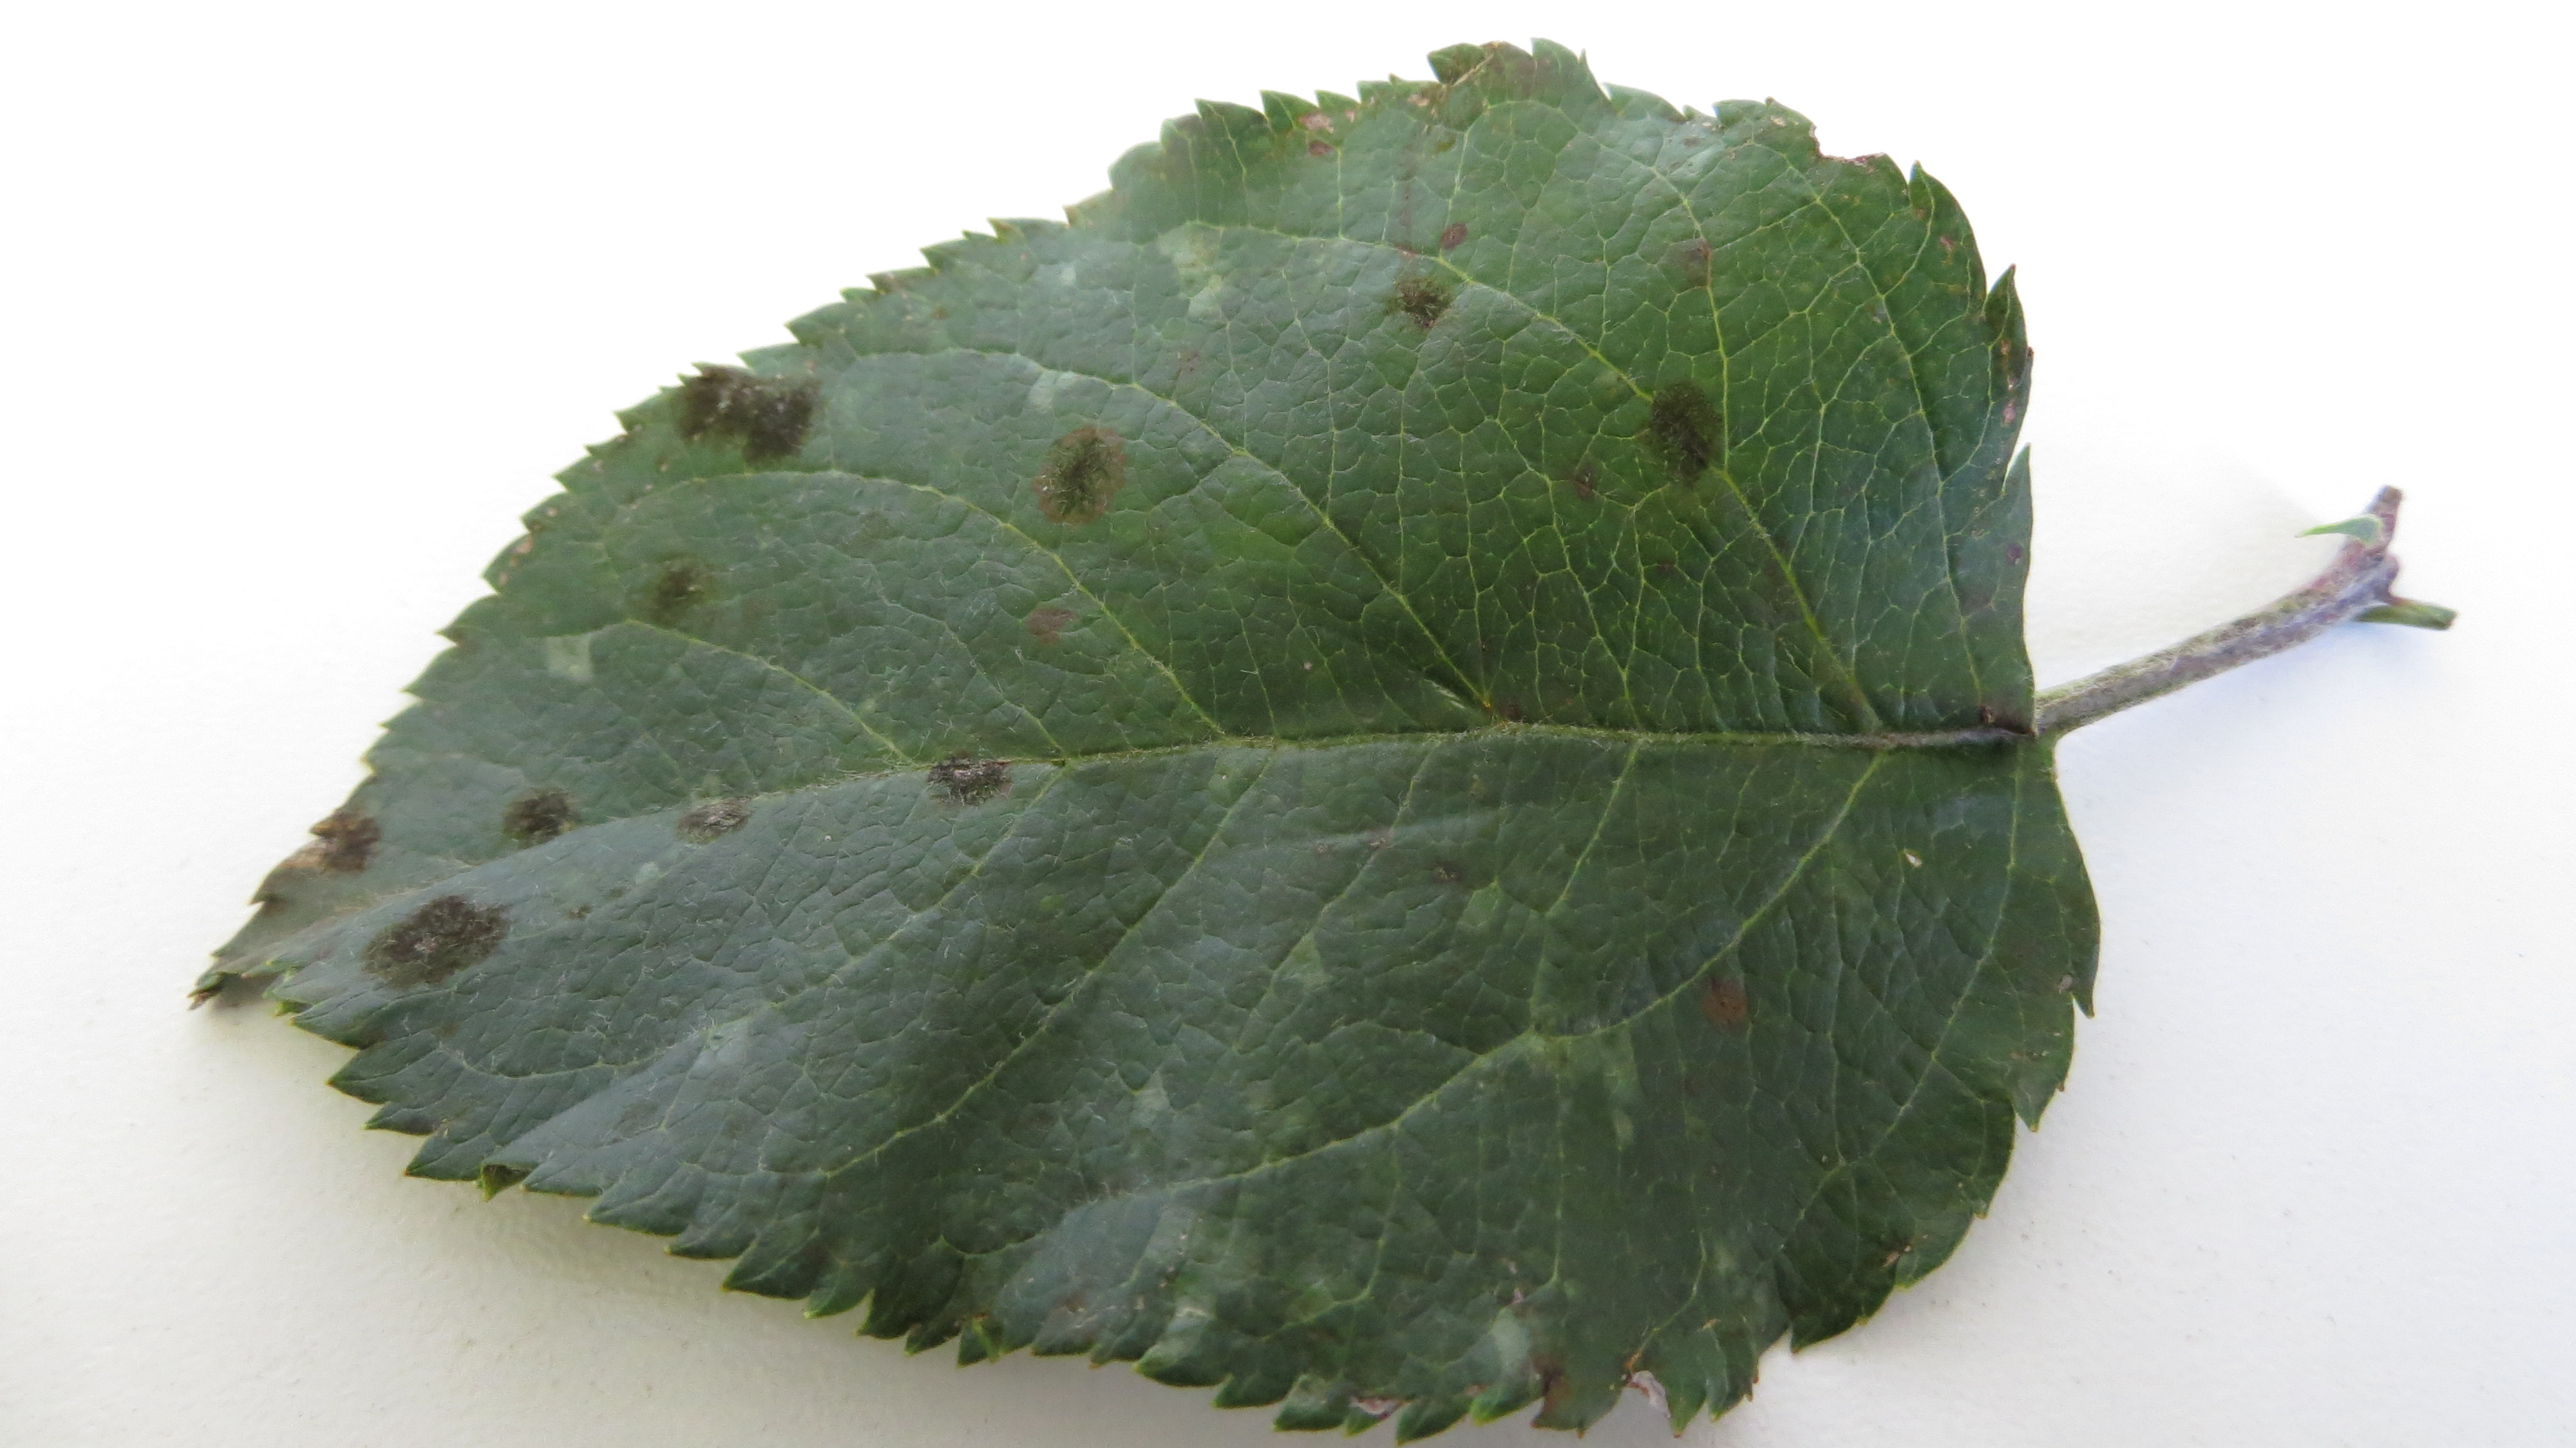sarna: (672, 345, 835, 469), (356, 885, 520, 991), (1624, 356, 1736, 494), (1021, 400, 1127, 540), (1928, 678, 2040, 777), (281, 797, 398, 887), (916, 729, 1028, 823), (1675, 949, 1769, 1053), (628, 536, 731, 630), (1366, 253, 1465, 340), (490, 768, 591, 850), (671, 770, 750, 857), (1649, 214, 1727, 299), (1003, 588, 1077, 653)
